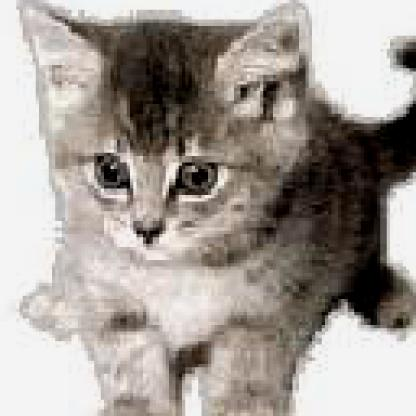cat: (16, 0, 415, 414)
